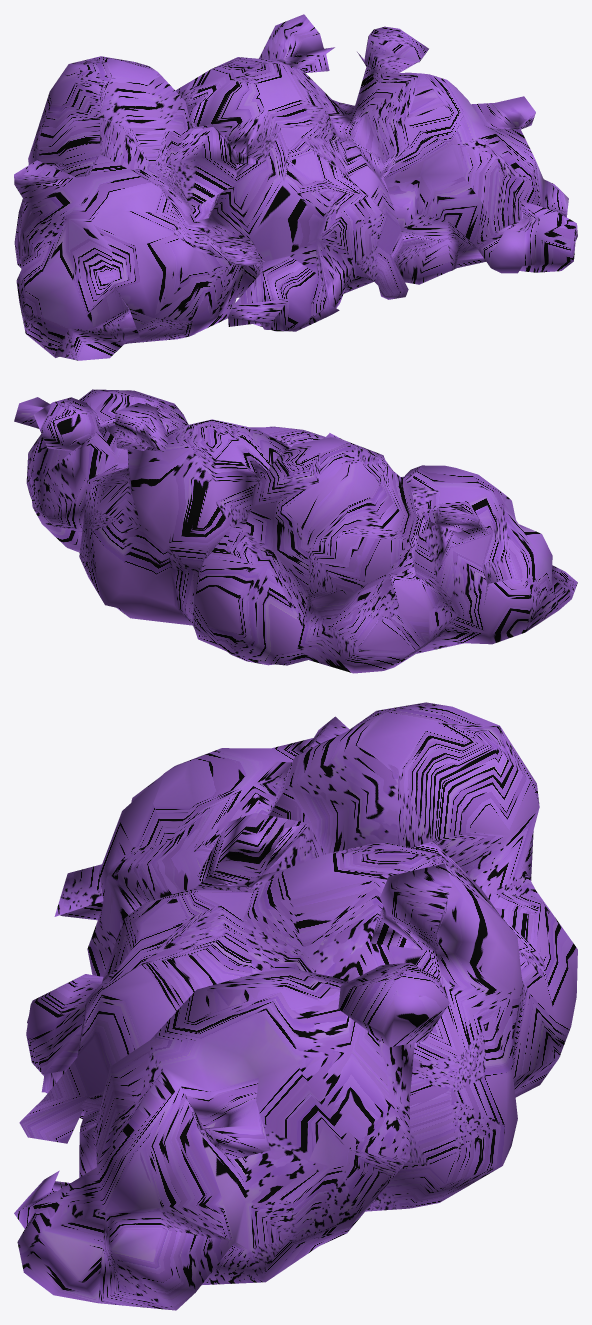
The model's file is gas_cloud.glb.
3 views of the same model, one above another, from view 1: azimuth 30°, elevation 25°; view 2: azimuth 150°, elevation 25°; view 3: azimuth 270°, elevation 25° (orthographic). The views are drawn at different scales.
Parts seen in each view (by area): view 1: output_unwrapped; view 2: output_unwrapped; view 3: output_unwrapped.
Part boxes in pixels (x1,y1,x2,y2): output_unwrapped: [14, 14, 577, 360]; output_unwrapped: [14, 389, 577, 673]; output_unwrapped: [14, 702, 577, 1310].
Bounding box in the file's own units: 1.89 × 0.706 × 1.12.
1 material, 1 textured.
